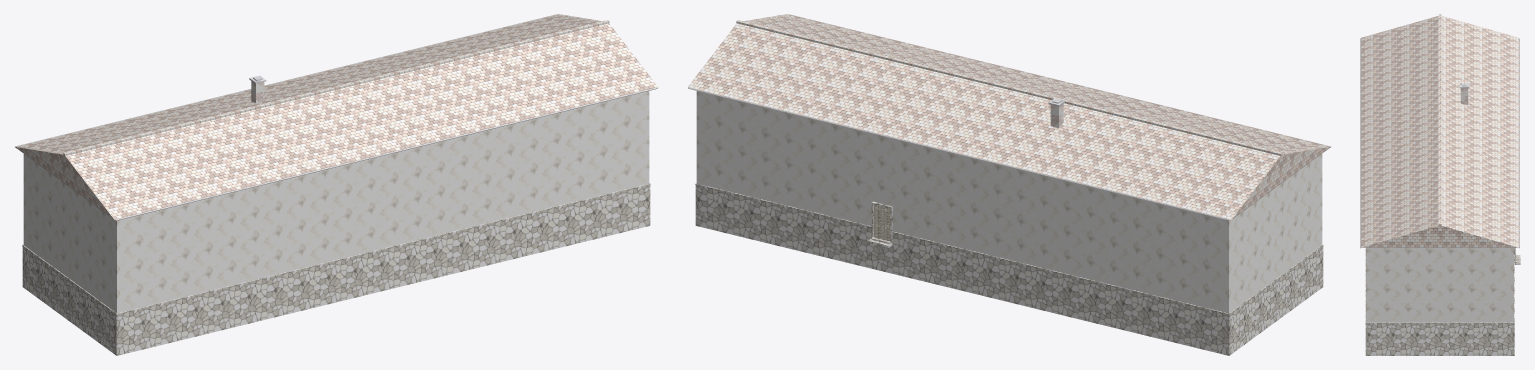
3 views of the same model, side by side, from view 1: azimuth 30°, elevation 25°; view 2: azimuth 150°, elevation 25°; view 3: azimuth 270°, elevation 25° (orthographic). The views are drawn at different scales.
Parts seen in each view (by area): view 1: b1085384681; view 2: b1085384681; view 3: b1085384681.
Boxes of the visible parts, x1,y1,x2,y2 form: b1085384681: [15, 14, 657, 355]; b1085384681: [688, 14, 1330, 355]; b1085384681: [1360, 14, 1520, 355].
Bounding box in the file's own units: 32.84 × 10.51 × 10.6.
Materials: 14 (14 with a texture image).
